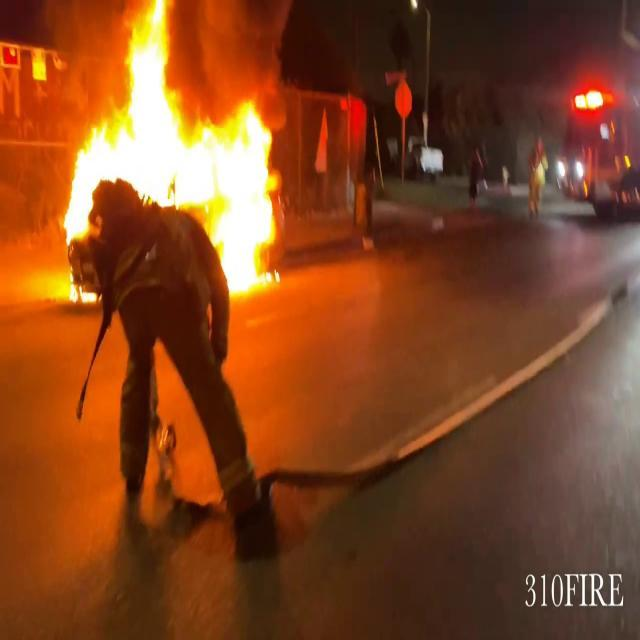Fire: (55, 0, 289, 302)
